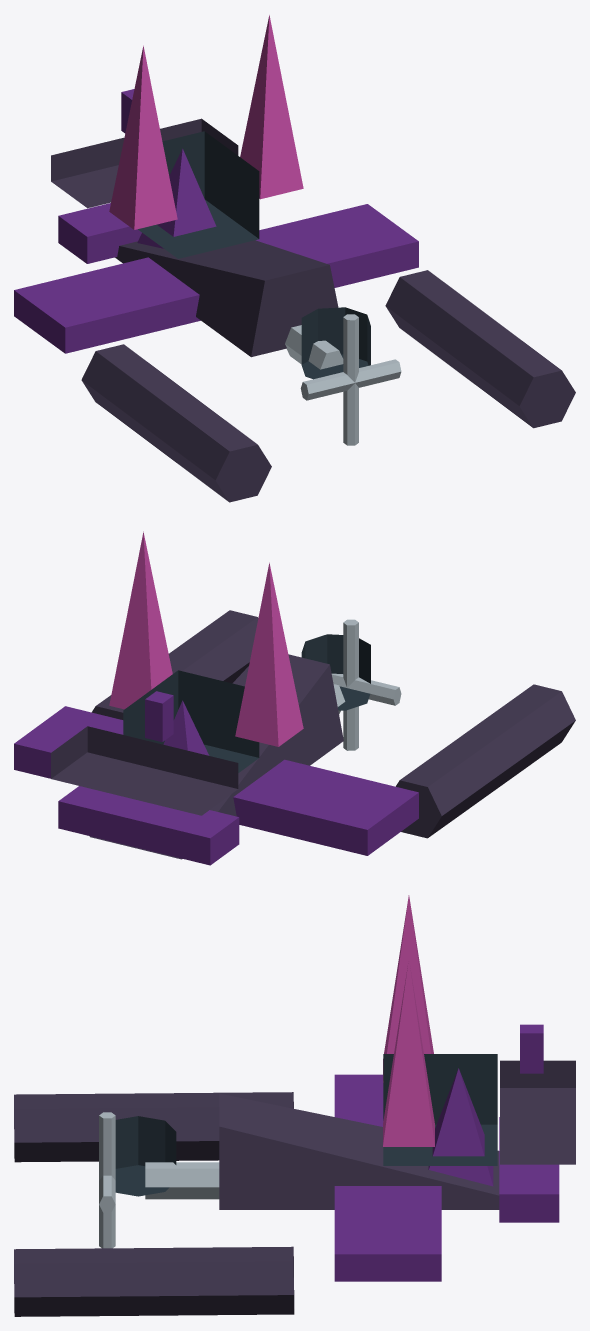
The model's file is gunship.obj.
3 views of the same model, one above another, from view 1: azimuth 30°, elevation 25°; view 2: azimuth 150°, elevation 25°; view 3: azimuth 270°, elevation 25° (orthographic). The views are drawn at different scales.
Parts seen in each view (by area): view 1: air; view 2: air; view 3: air.
Part boxes in pixels (x1,y1,x2,y2): air: [14, 15, 575, 502]; air: [14, 531, 575, 865]; air: [14, 895, 575, 1316].
Bounding box in the file's own units: 1.66 × 1.35 × 2.15.
